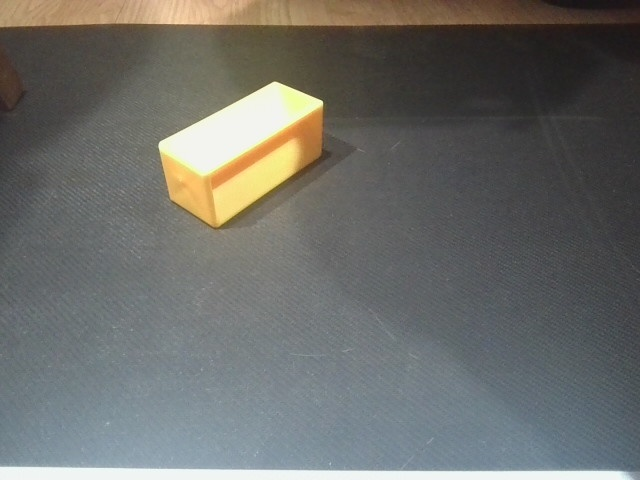YellowSample: (155, 79, 331, 233)
